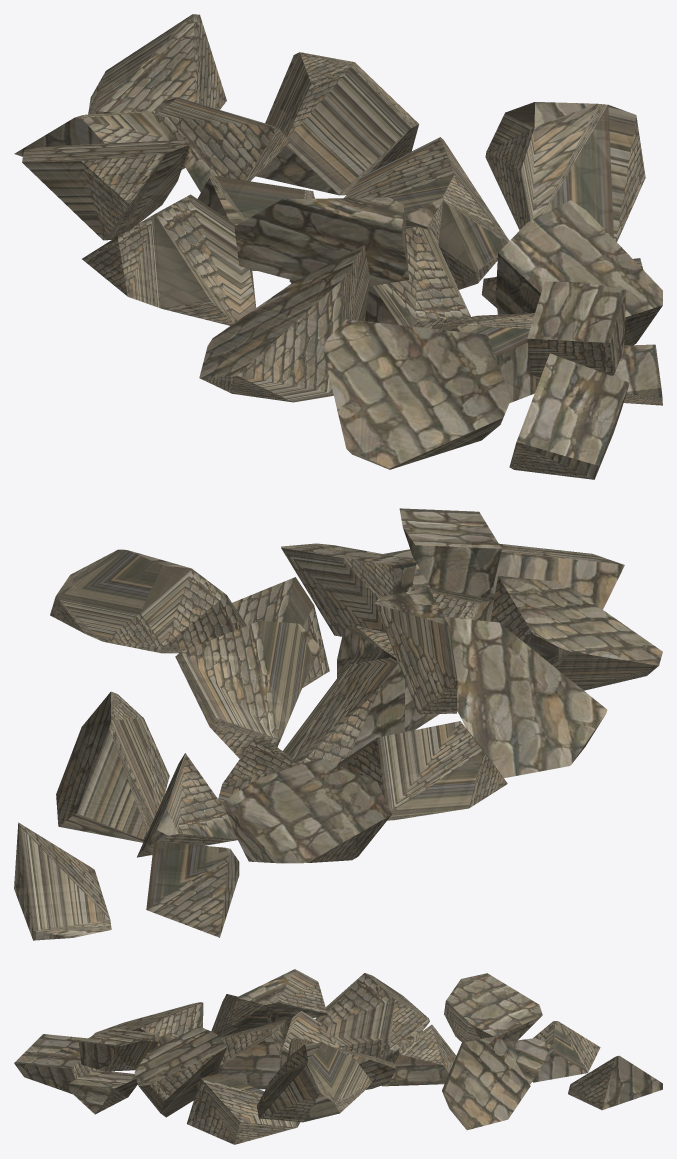
File: BreakWallSmall_000016.obj
3 views of the same model, one above another, from view 1: azimuth 30°, elevation 25°; view 2: azimuth 150°, elevation 25°; view 3: azimuth 270°, elevation 25° (orthographic). The views are drawn at different scales.
Visible parts, largest first — view 1: Cube.002_cell.013_Cube.002_cell.012, Cube.002_cell.003_Cube.002_cell.002, Cube.002_cell.014_Cube.002_cell.013, Cube.002_cell.017_Cube.002_cell.016, Cube.002_cell.012_Cube.002_cell.011, Cube.002_cell.009_Cube.002_cell.008, Cube.002_cell.004_Cube.002_cell.003, Cube.002_cell.010_Cube.002_cell.009, Cube.002_cell.015_Cube.002_cell.014, Cube.002_cell.002_Cube.002_cell.001, Cube.002_cell.005_Cube.002_cell.004, Cube.002_cell.007_Cube.002_cell.006 (+6 smaller); view 2: Cube.002_cell.017_Cube.002_cell.016, Cube.002_cell.003_Cube.002_cell.002, Cube.002_cell.010_Cube.002_cell.009, Cube.002_cell.015_Cube.002_cell.014, Cube.002_cell.014_Cube.002_cell.013, Cube.002_cell.013_Cube.002_cell.012, Cube.002_cell.012_Cube.002_cell.011, Cube.002_cell.006_Cube.002_cell.005, Cube.002_cell.005_Cube.002_cell.004, Cube.002_cell.004_Cube.002_cell.003, Cube.002_cell.009_Cube.002_cell.008, Cube.002_cell.018_Cube.002_cell.017 (+7 smaller); view 3: Cube.002_cell.003_Cube.002_cell.002, Cube.002_cell.012_Cube.002_cell.011, Cube.002_cell.014_Cube.002_cell.013, Cube.002_cell.004_Cube.002_cell.003, Cube.002_cell.010_Cube.002_cell.009, Cube.002_cell.016_Cube.002_cell.015, Cube.002_cell.009_Cube.002_cell.008, Cube.002_cell.008_Cube.002_cell.007, Cube.002_cell.005_Cube.002_cell.004, Cube.002_cell.002_Cube.002_cell.001, Cube.002_cell_Cube.002_cell.020, Cube.002_cell.007_Cube.002_cell.006 (+7 smaller).
Boxes of the visible parts, x1,y1,x2,y2 form: Cube.002_cell.013_Cube.002_cell.012: (323,319,510,469); Cube.002_cell.003_Cube.002_cell.002: (485,102,645,241); Cube.002_cell.014_Cube.002_cell.013: (256,52,418,195); Cube.002_cell.017_Cube.002_cell.016: (199,245,370,402); Cube.002_cell.012_Cube.002_cell.011: (82,194,256,325); Cube.002_cell.009_Cube.002_cell.008: (234,197,408,286); Cube.002_cell.004_Cube.002_cell.003: (495,200,662,345); Cube.002_cell.010_Cube.002_cell.009: (22,139,189,240); Cube.002_cell.015_Cube.002_cell.014: (344,137,509,289); Cube.002_cell.002_Cube.002_cell.001: (509,353,629,479); Cube.002_cell.005_Cube.002_cell.004: (88,14,226,114); Cube.002_cell.007_Cube.002_cell.006: (527,281,626,379); Cube.002_cell.017_Cube.002_cell.016: (444,617,607,778); Cube.002_cell.003_Cube.002_cell.002: (50,549,246,653); Cube.002_cell.010_Cube.002_cell.009: (223,757,391,863); Cube.002_cell.015_Cube.002_cell.014: (175,621,319,758); Cube.002_cell.014_Cube.002_cell.013: (56,691,169,842); Cube.002_cell.013_Cube.002_cell.012: (490,575,662,690); Cube.002_cell.012_Cube.002_cell.011: (338,721,507,820); Cube.002_cell.006_Cube.002_cell.005: (283,657,404,764); Cube.002_cell.005_Cube.002_cell.004: (14,822,111,940); Cube.002_cell.004_Cube.002_cell.003: (281,543,416,636); Cube.002_cell.009_Cube.002_cell.008: (374,588,457,714); Cube.002_cell.018_Cube.002_cell.017: (146,841,239,937); Cube.002_cell.003_Cube.002_cell.002: (256,1042,371,1122); Cube.002_cell.012_Cube.002_cell.011: (315,973,429,1060); Cube.002_cell.014_Cube.002_cell.013: (442,1036,530,1130); Cube.002_cell.004_Cube.002_cell.003: (134,1026,226,1117); Cube.002_cell.010_Cube.002_cell.009: (444,973,542,1042); Cube.002_cell.016_Cube.002_cell.015: (187,1073,300,1144); Cube.002_cell.009_Cube.002_cell.008: (232,969,327,1028); Cube.002_cell.008_Cube.002_cell.007: (218,1019,287,1089); Cube.002_cell.005_Cube.002_cell.004: (568,1055,662,1110); Cube.002_cell.002_Cube.002_cell.001: (14,1034,99,1094); Cube.002_cell_Cube.002_cell.020: (382,1024,456,1086); Cube.002_cell.007_Cube.002_cell.006: (78,1028,158,1071).
Size of the model in its own units: 26.58 by 7.76 by 50.55.
2 materials, 2 textured.
